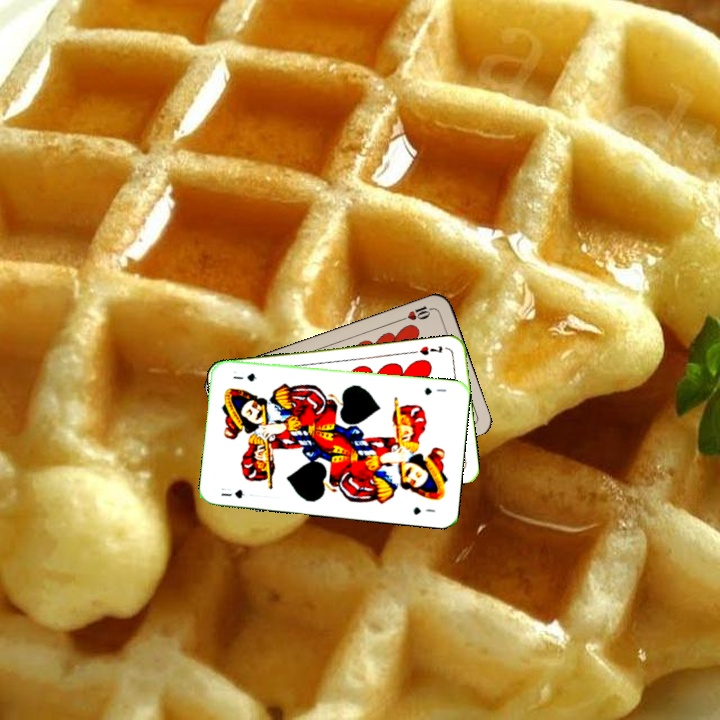GU: (217, 484, 247, 501), (421, 383, 449, 397)
H10: (396, 302, 436, 323)
H7: (416, 342, 445, 358)
